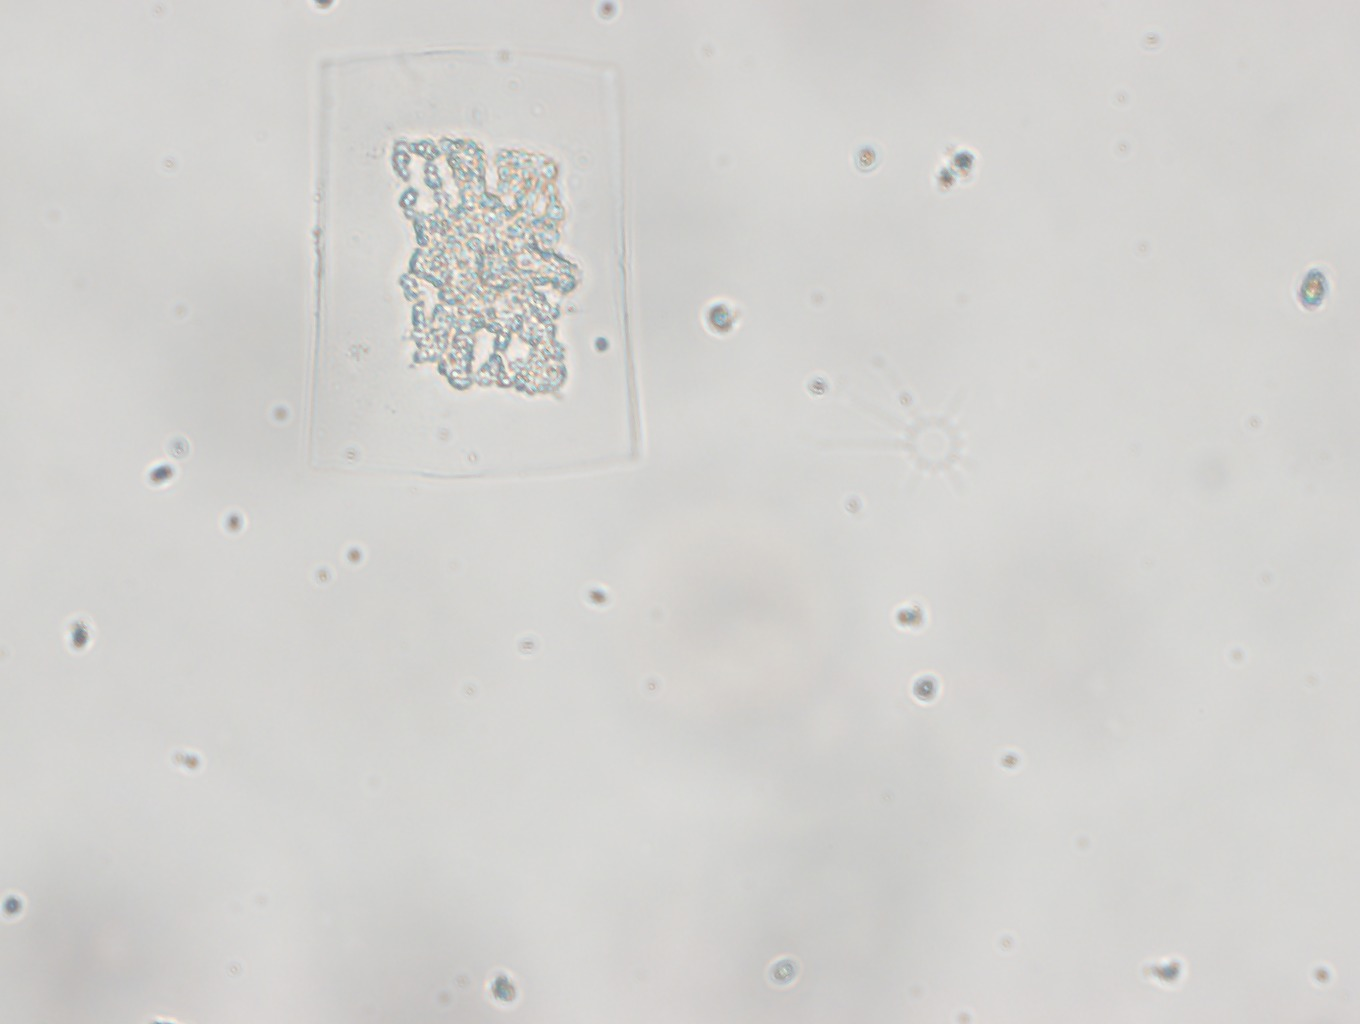helicotheca: (306, 55, 648, 483)
